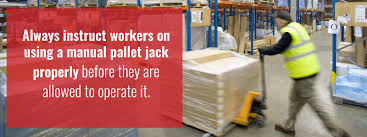Pallet Jack: (190, 44, 274, 133)
